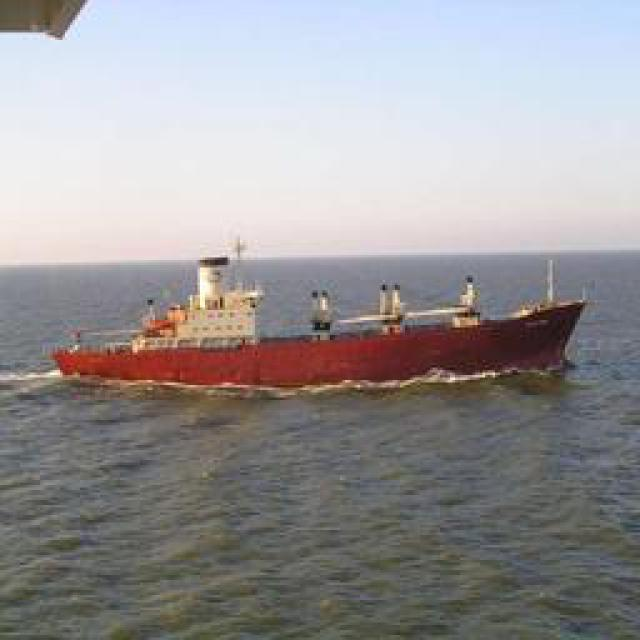Ship: (43, 257, 598, 395)
